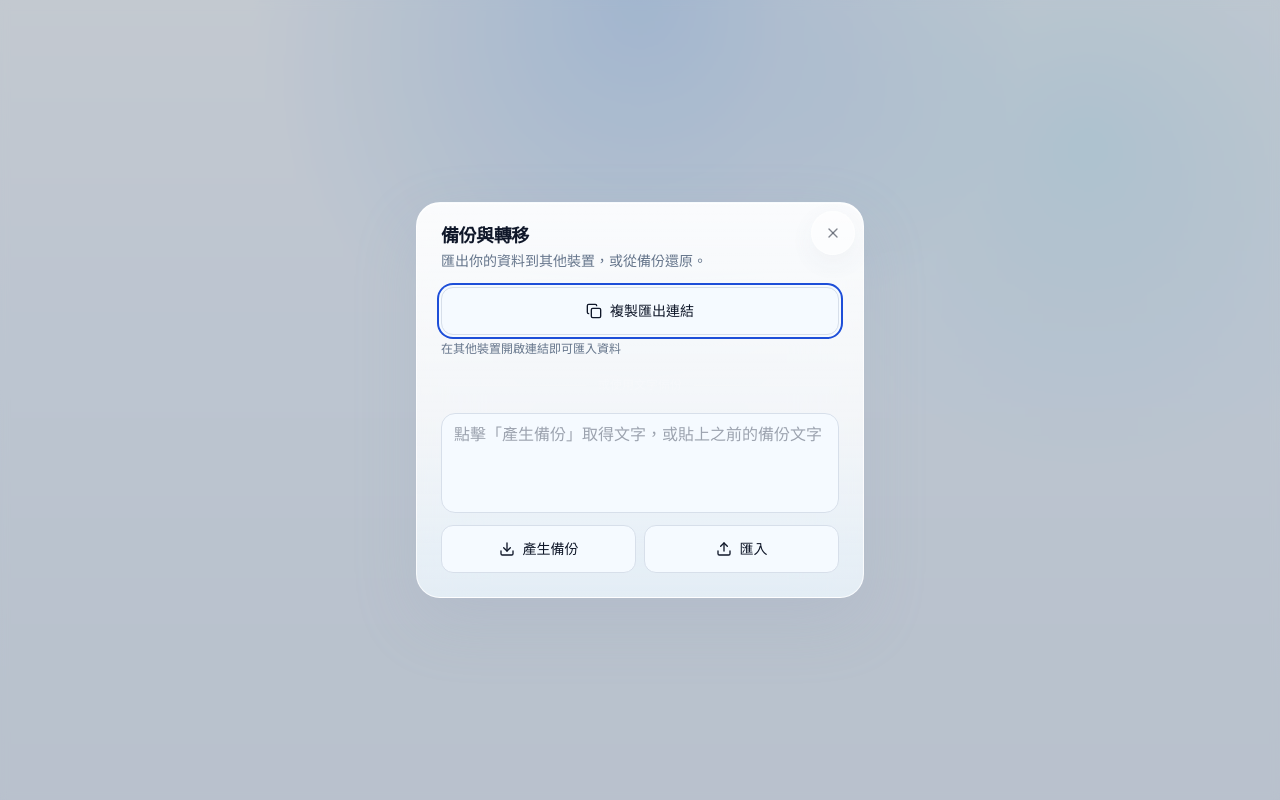
Test: BackupDialog › should show error for invalid import text
Type "garbage" into the text box labelled "備份文字". click: (640, 463)
box: left=441, top=413, right=839, bottom=513
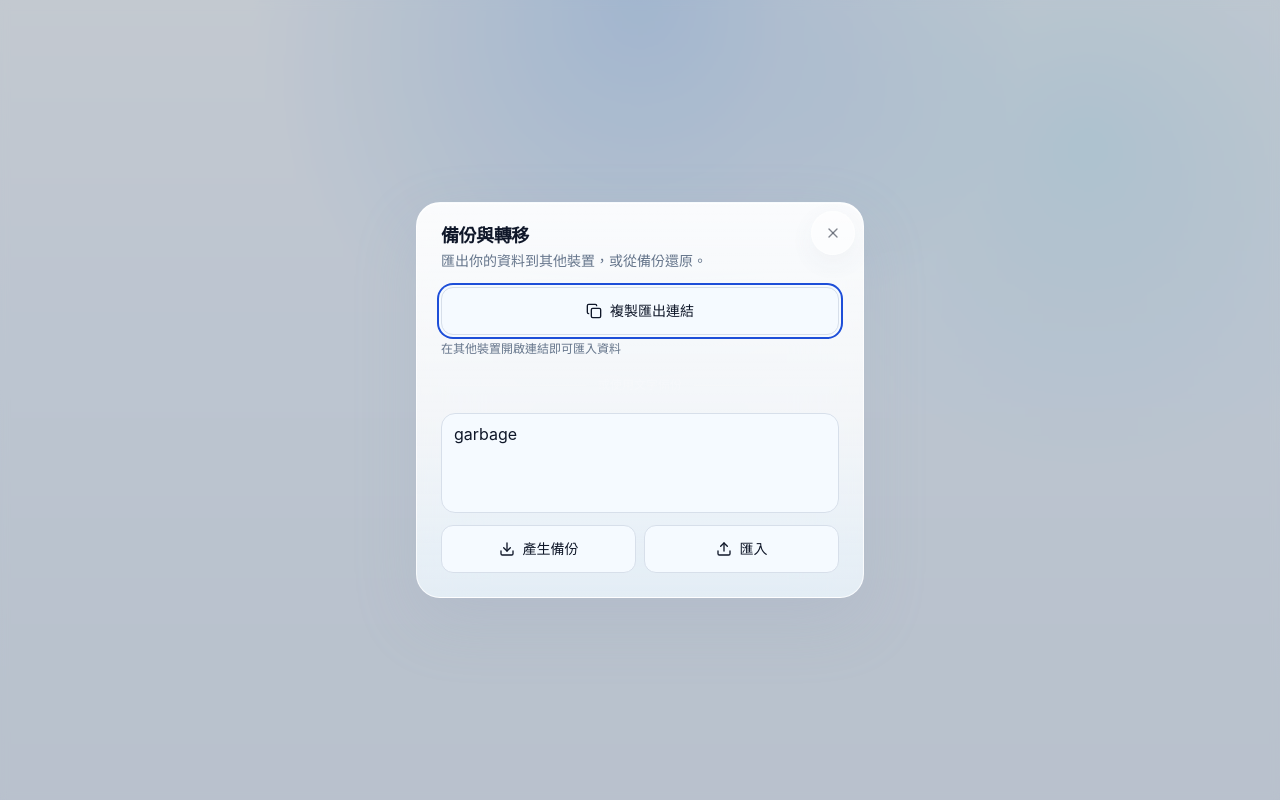
Click the button "匯入". click: (742, 549)
box: left=644, top=525, right=839, bottom=573
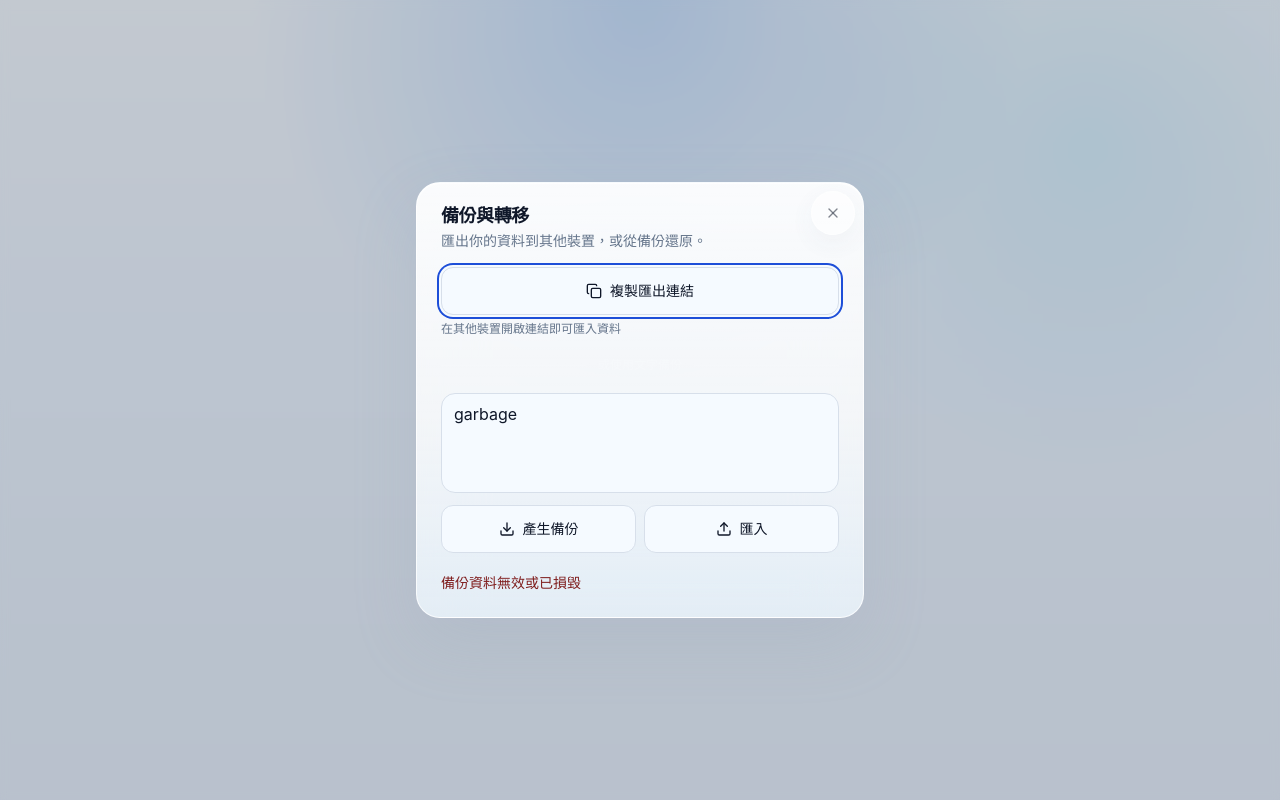
Check: the text "備份資料無效或已損毀" is shown, box left=441, top=574, right=581, bottom=591
